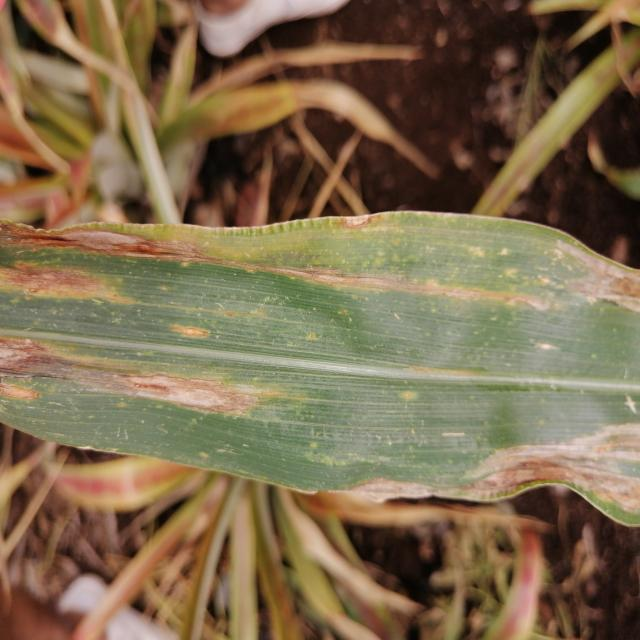Corn_Leaf_Blight: (0, 196, 640, 532)
